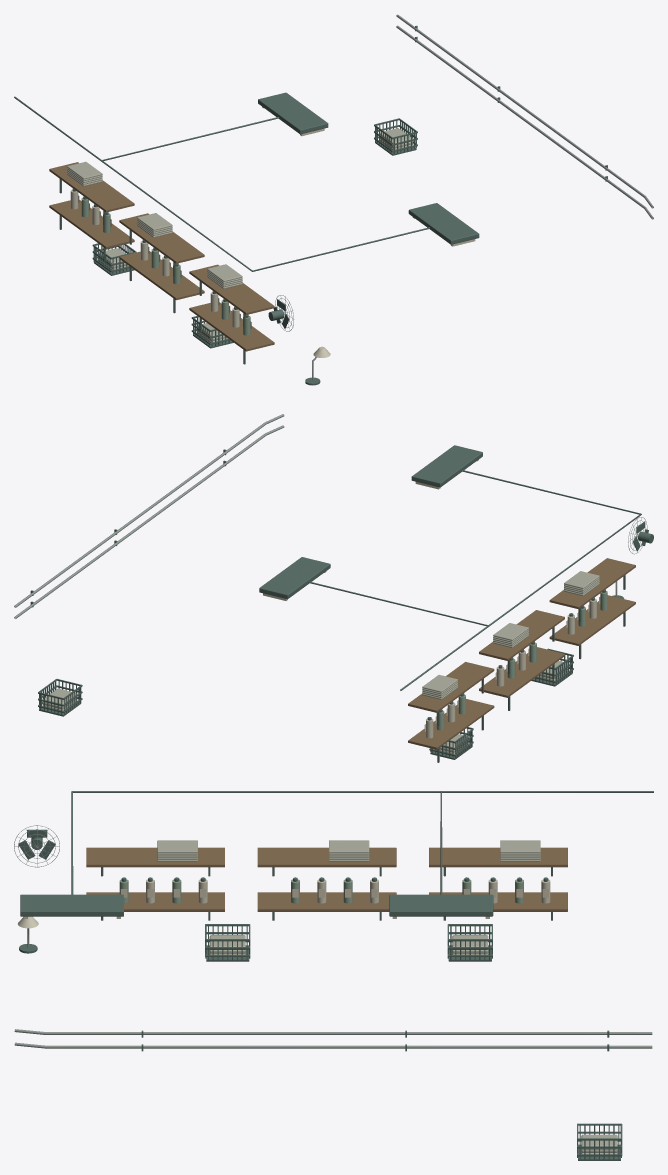
File: shop_detail.glb
3 renders of one model, top to bottom at view 1: azimuth 30°, elevation 25°; view 2: azimuth 150°, elevation 25°; view 3: azimuth 270°, elevation 25°, orthographic. The views are drawn at different scales.
Visible parts, largest first — view 1: Detail_Oak, Detail_PaintedSteel, Detail_Linen, Detail_Metal, Detail_WarmEnamel, Detail_Detergent; view 2: Detail_Oak, Detail_PaintedSteel, Detail_Linen, Detail_Metal, Detail_WarmEnamel, Detail_Detergent; view 3: Detail_Oak, Detail_PaintedSteel, Detail_Metal, Detail_Linen, Detail_WarmEnamel, Detail_Detergent, Detail_Paper.
Part boxes in pixels (x1=…): Detail_Oak: x1=49, y1=162, x2=274, y2=351; Detail_PaintedSteel: x1=14, y1=25, x2=607, y2=385; Detail_Linen: x1=67, y1=128, x2=412, y2=342; Detail_Metal: x1=275, y1=14, x2=653, y2=380; Detail_WarmEnamel: x1=70, y1=107, x2=475, y2=357; Detail_Detergent: x1=81, y1=197, x2=250, y2=335; Detail_Oak: x1=408, y1=558, x2=635, y2=749; Detail_PaintedSteel: x1=30, y1=445, x2=653, y2=762; Detail_Linen: x1=43, y1=571, x2=599, y2=754; Detail_Metal: x1=14, y1=414, x2=647, y2=618; Detail_WarmEnamel: x1=263, y1=459, x2=596, y2=738; Detail_Detergent: x1=436, y1=591, x2=607, y2=730; Detail_Oak: x1=86, y1=847, x2=567, y2=911; Detail_PaintedSteel: x1=18, y1=791, x2=653, y2=1160; Detail_Metal: x1=14, y1=825, x2=652, y2=1048; Detail_Linen: x1=157, y1=840, x2=617, y2=1154; Detail_WarmEnamel: x1=18, y1=879, x2=550, y2=928; Detail_Detergent: x1=119, y1=879, x2=523, y2=903; Detail_Paper: x1=120, y1=889, x2=549, y2=897.
Size of the model in its own units: 6.19 by 1.9 by 7.28.
